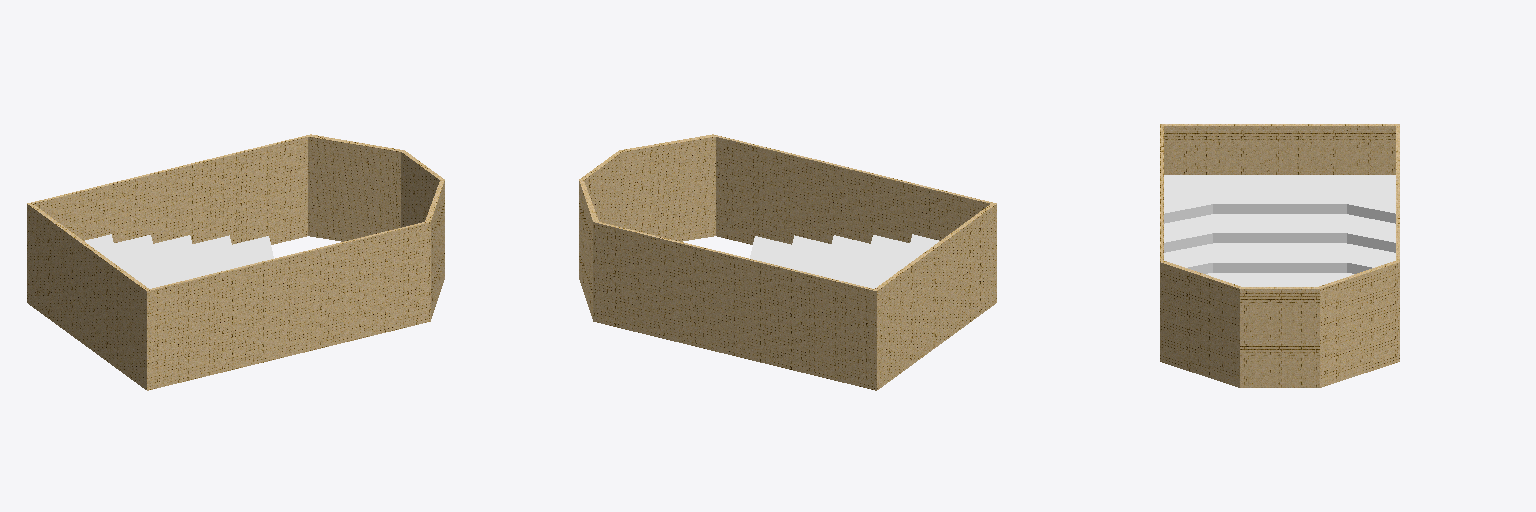
The picture shows the model from 3 angles: view 1: azimuth 30°, elevation 25°; view 2: azimuth 150°, elevation 25°; view 3: azimuth 270°, elevation 25°; orthographic projection.
Parts seen in each view (by area): view 1: Object.1, Object.2; view 2: Object.1, Object.2; view 3: Object.1, Object.2.
Boxes of the visible parts, <box> form: Object.1: <box>27,134,444,390</box>; Object.2: <box>85,234,273,288</box>; Object.1: <box>579,134,996,390</box>; Object.2: <box>750,234,938,288</box>; Object.1: <box>1160,124,1399,387</box>; Object.2: <box>1164,175,1395,286</box>.
Bounding box in the file's own units: 106 × 29.83 × 65.19.
2 materials, 1 textured.